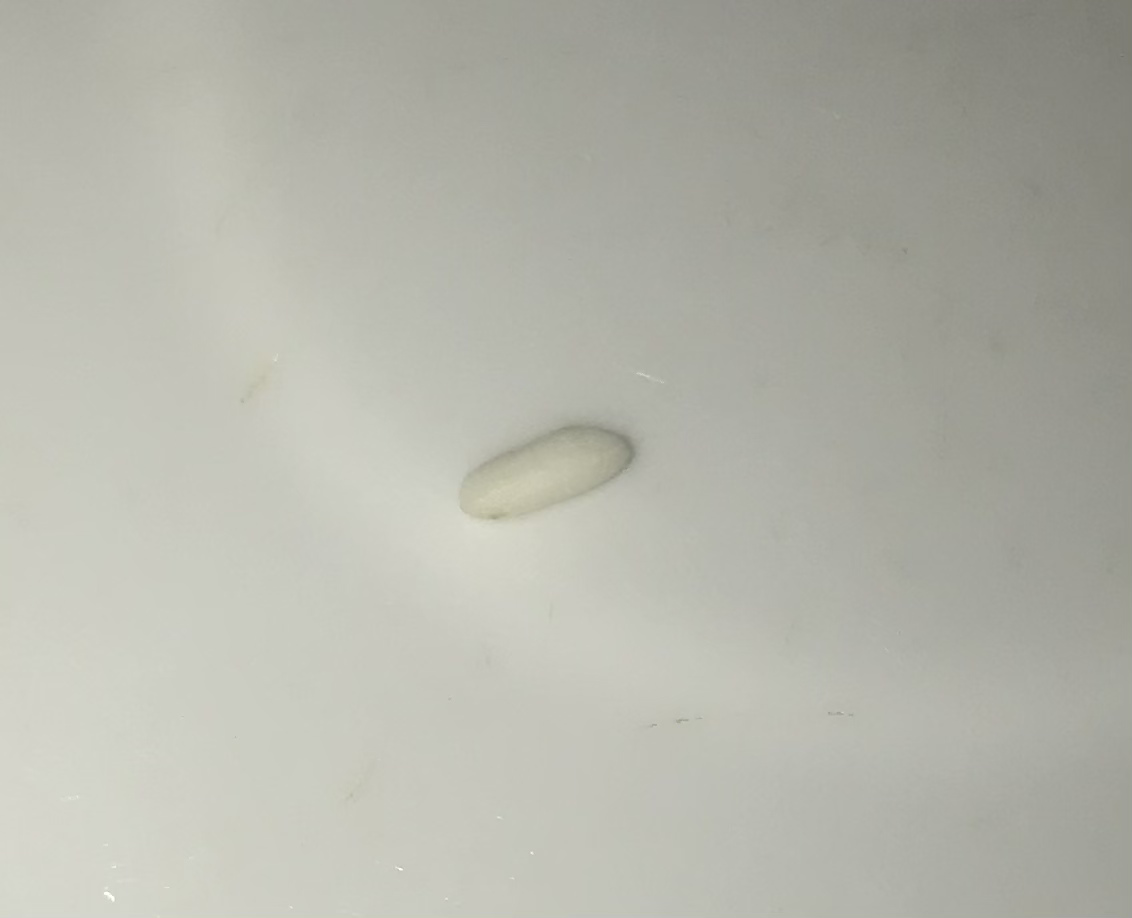Gao Nep Sap: (447, 403, 645, 550)
